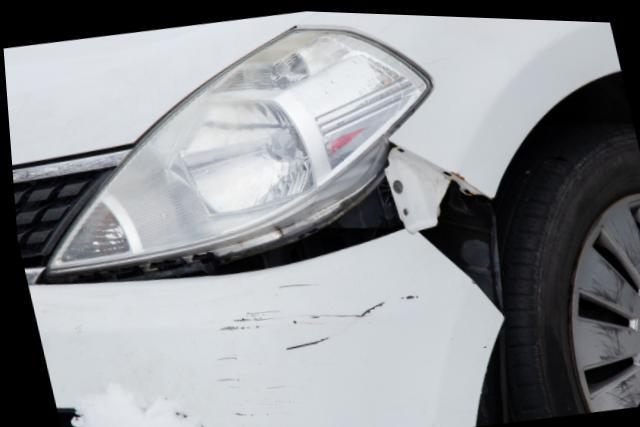dislocated part: (40, 140, 499, 427)
scratch: (206, 273, 417, 427)
